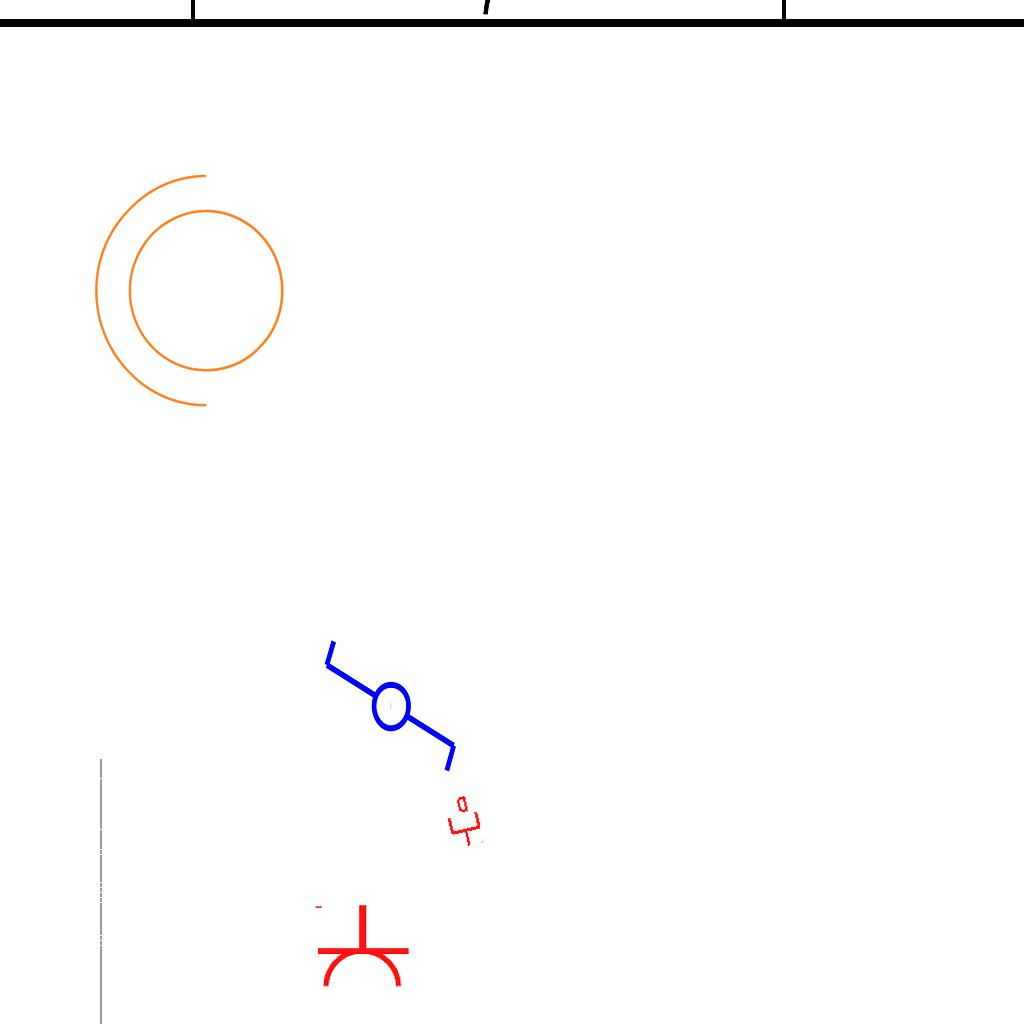Datenanschluss_einfach: (441, 793, 487, 851)
Scheinwerfer_fuer_Alarmbeleuchtung: (84, 165, 309, 429)
Schukosteckdose_einfach: (311, 903, 411, 990)
Wechselschalter: (317, 636, 461, 793)
